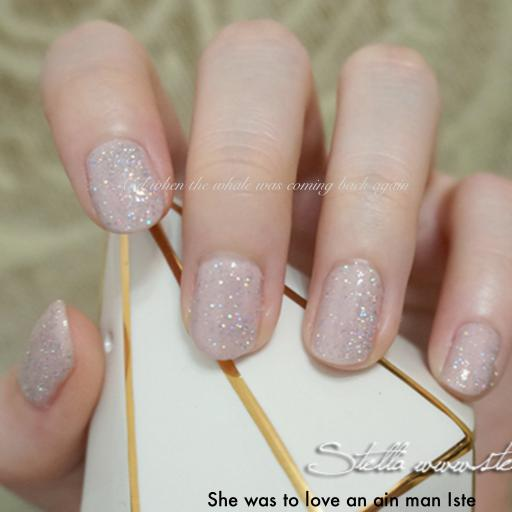Futura: (206, 490, 476, 507)
Snell Roundhand: (111, 176, 409, 196)
